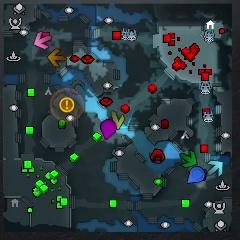Other: (60, 97, 74, 112)
p1: (187, 166, 206, 185)
p3: (101, 118, 117, 141)
x1: (33, 32, 52, 49)
x2: (110, 111, 124, 130)
x3: (208, 160, 223, 176)
x4: (180, 151, 197, 168)
x5: (48, 48, 66, 67)
